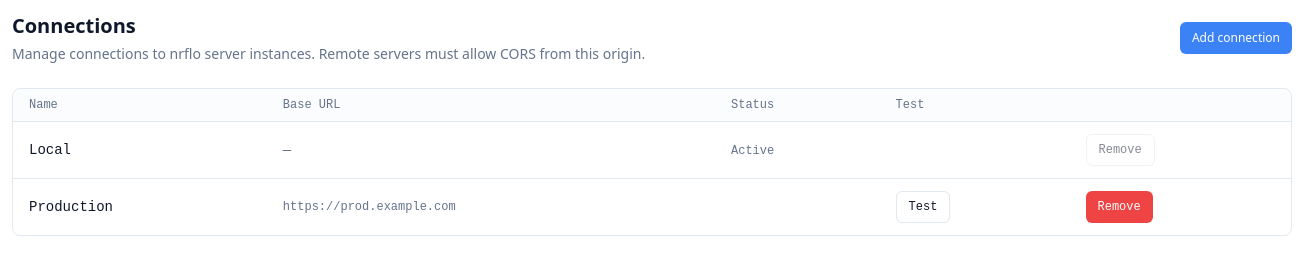
it: ConnectionsSection - Test button › shows OK result after successful test
This screenshot has width=1304, height=253.
Click the button "Test" at point(923, 207), box [896, 191, 950, 223]
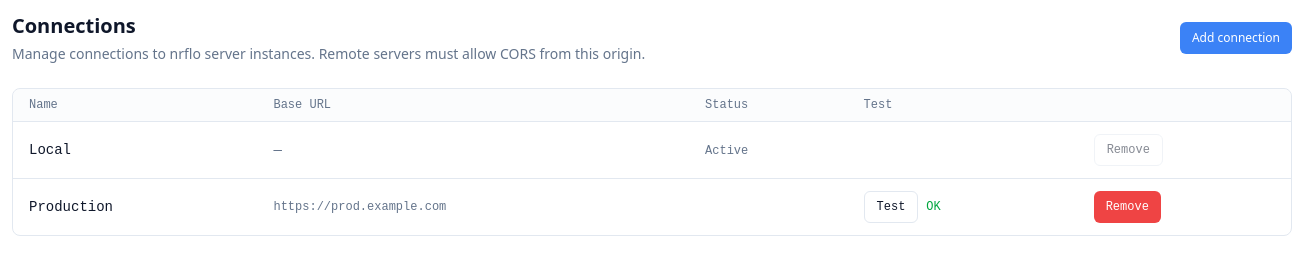
expect the text "OK" is shown: met, box [926, 199, 941, 215]
